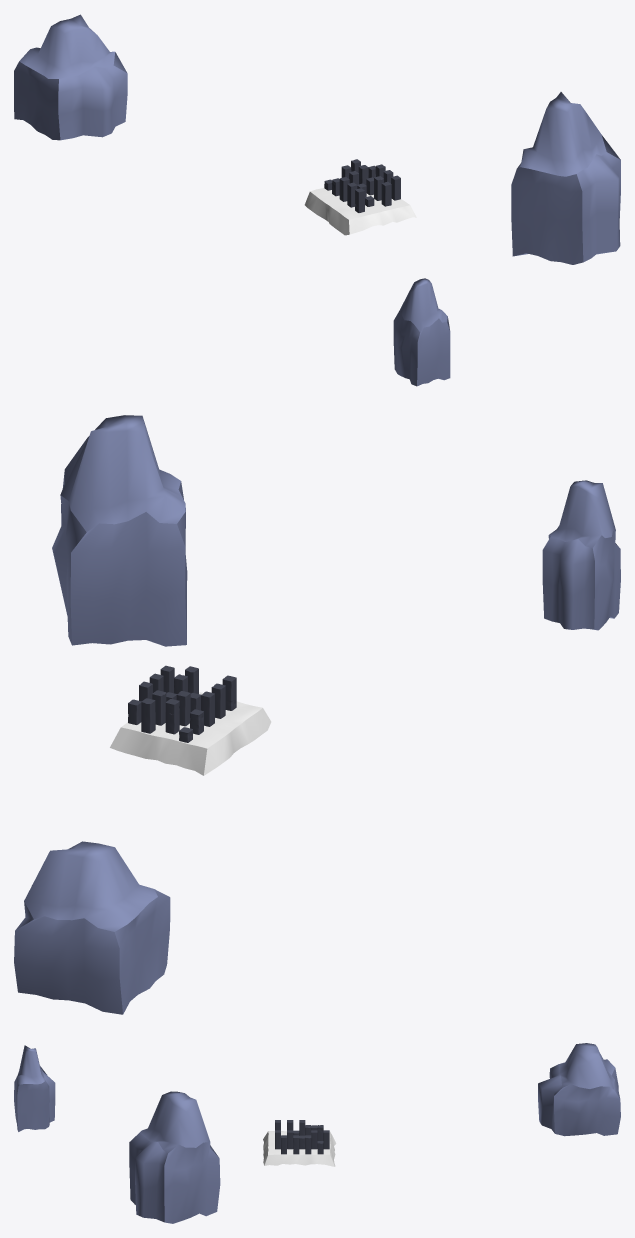
File: columns_env.fbx
3 renders of one model, top to bottom at view 1: azimuth 30°, elevation 25°; view 2: azimuth 150°, elevation 25°; view 3: azimuth 270°, elevation 25°, orthographic. The views are drawn at different scales.
Parts seen in each view (by area): view 1: column_env; view 2: column_env; view 3: column_env.
Boxes of the visible parts, x1,y1,x2,y2 form: column_env: (14,14,620,386); column_env: (14,415,620,1014); column_env: (14,1043,620,1223).
Size of the model in its own units: 488 by 217 by 999.
Materials: 1 (1 with a texture image).
